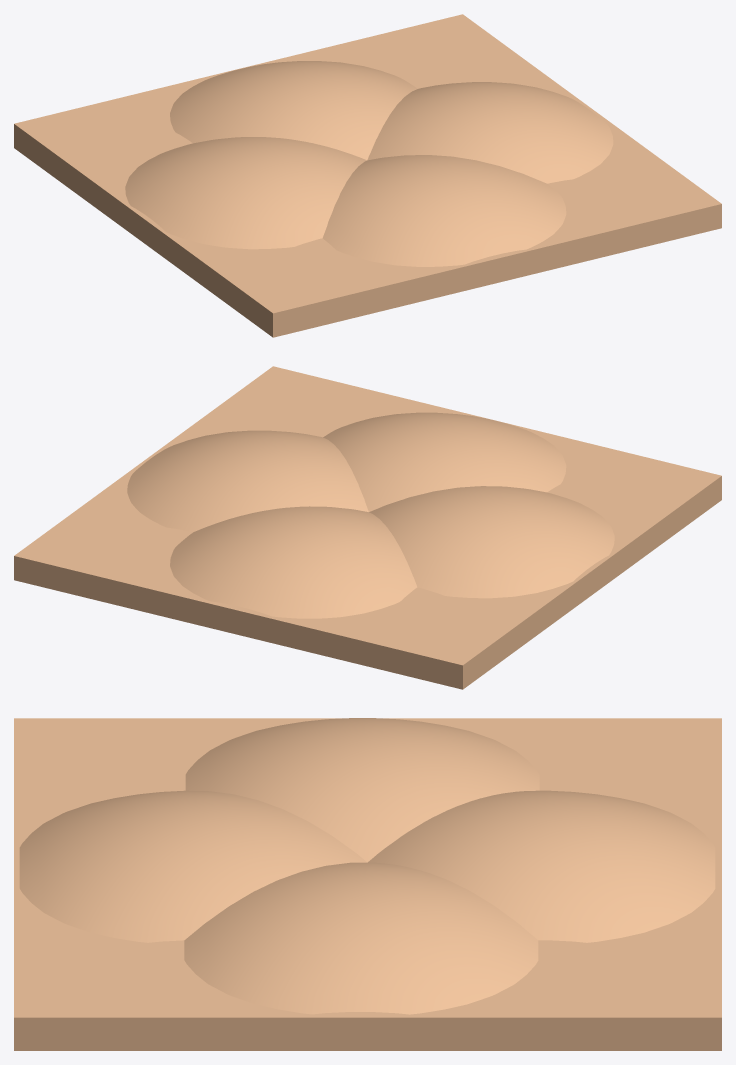
Rendered from areia.glb.
3 views of the same model, one above another, from view 1: azimuth 30°, elevation 25°; view 2: azimuth 150°, elevation 25°; view 3: azimuth 270°, elevation 25° (orthographic). The views are drawn at different scales.
Visible parts, largest first — view 1: Dunas de Areia, Cube; view 2: Dunas de Areia, Cube; view 3: Dunas de Areia, Cube.
Part boxes in pixels (bbox=[...]): Dunas de Areia: bbox=[125, 61, 613, 266]; Cube: bbox=[14, 14, 721, 337]; Dunas de Areia: bbox=[127, 412, 614, 618]; Cube: bbox=[14, 366, 721, 689]; Dunas de Areia: bbox=[19, 718, 715, 1014]; Cube: bbox=[14, 718, 721, 1050].
Size of the model in its own units: 2 by 0.2307 by 2.
